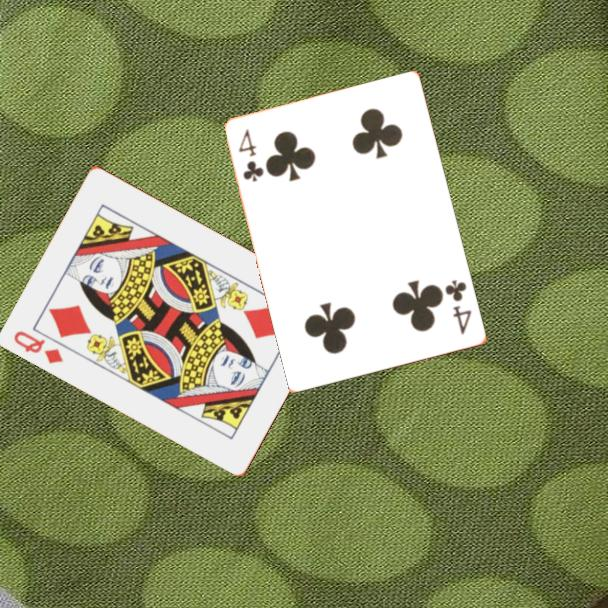c04: (442, 276, 475, 338), (235, 125, 266, 185)
d12: (10, 327, 67, 367)
